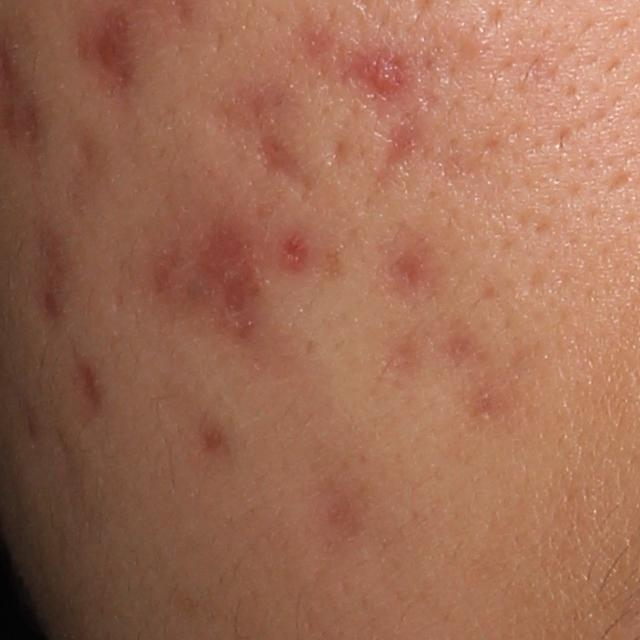atrophic_scar: (210, 85, 302, 185), (369, 113, 428, 197), (33, 211, 70, 324), (68, 337, 109, 411), (325, 133, 351, 170), (600, 172, 636, 195)
papule: (361, 53, 400, 94)
